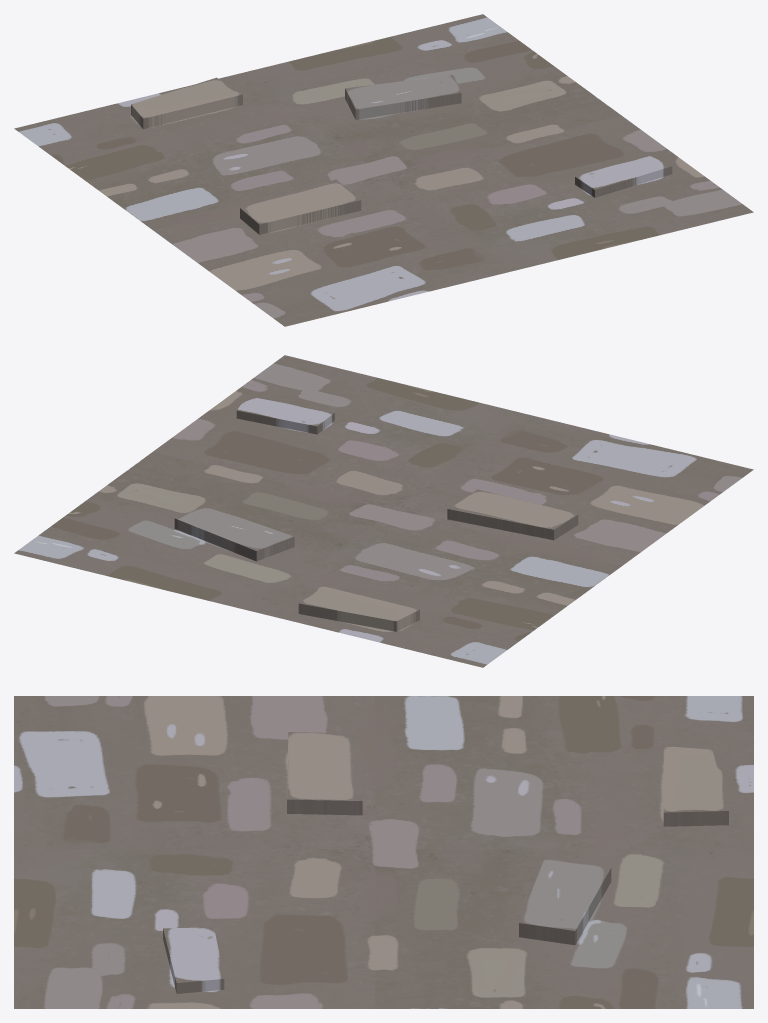
File: Street1.fbx
The picture shows the model from 3 angles, top to bottom: view 1: azimuth 30°, elevation 25°; view 2: azimuth 150°, elevation 25°; view 3: azimuth 270°, elevation 25°; orthographic projection. The views are drawn at different scales.
Parts seen in each view (by area): view 1: Straat.017; view 2: Straat.017; view 3: Straat.017.
Boxes of the visible parts, x1,y1,x2,y2 form: Straat.017: (14,14,753,326); Straat.017: (14,355,753,667); Straat.017: (14,696,753,1008).
Bounding box in the file's own units: 1089 × 23.18 × 1089.
Materials: 1 (1 with a texture image).
